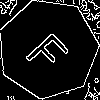F: (23, 24, 78, 77)
